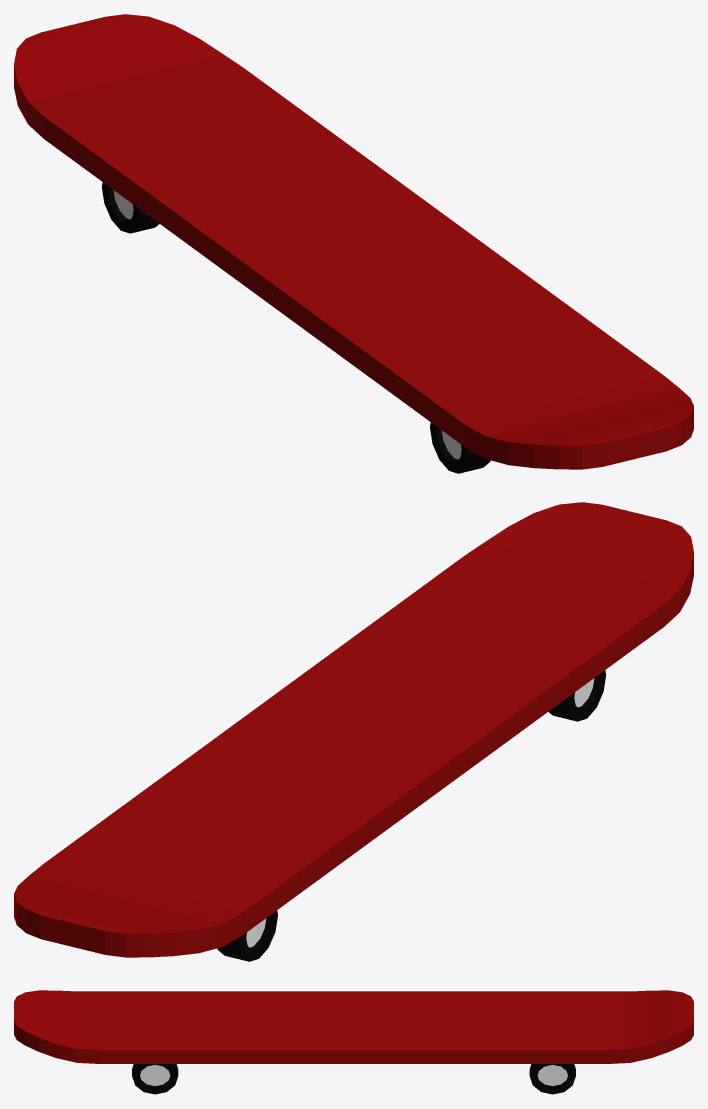
Rendered from Skateboard.fbx.
3 renders of one model, top to bottom at view 1: azimuth 30°, elevation 25°; view 2: azimuth 150°, elevation 25°; view 3: azimuth 270°, elevation 25°, orthographic. The views are drawn at different scales.
Visible parts, largest first — view 1: Skateboard; view 2: Skateboard; view 3: Skateboard.
Part boxes in pixels (<box>): Skateboard: <box>14,14,693,473</box>; Skateboard: <box>14,502,693,961</box>; Skateboard: <box>14,990,693,1094</box>.
Size of the model in its own units: 22.47 by 11.19 by 109.
